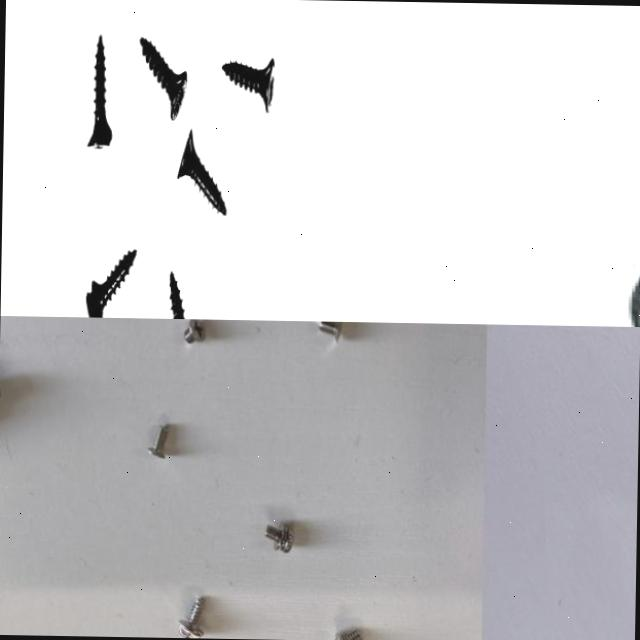Screw: (177, 131, 226, 217), (139, 39, 186, 121), (85, 252, 136, 317), (222, 59, 274, 114), (87, 37, 111, 150), (178, 594, 208, 638), (262, 520, 296, 556), (146, 422, 168, 461), (316, 321, 346, 346), (182, 319, 207, 347), (169, 274, 183, 319), (332, 626, 365, 640)
